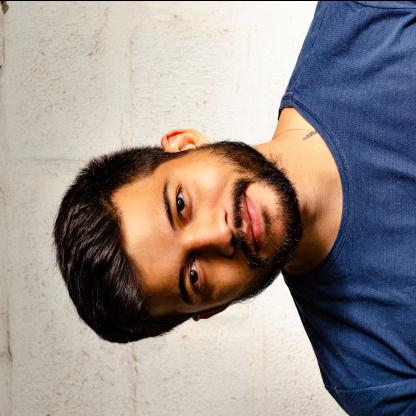Eye: (189, 256, 206, 299), (176, 182, 191, 225)
Mouth: (242, 188, 264, 255)
Nose: (188, 207, 234, 255)
